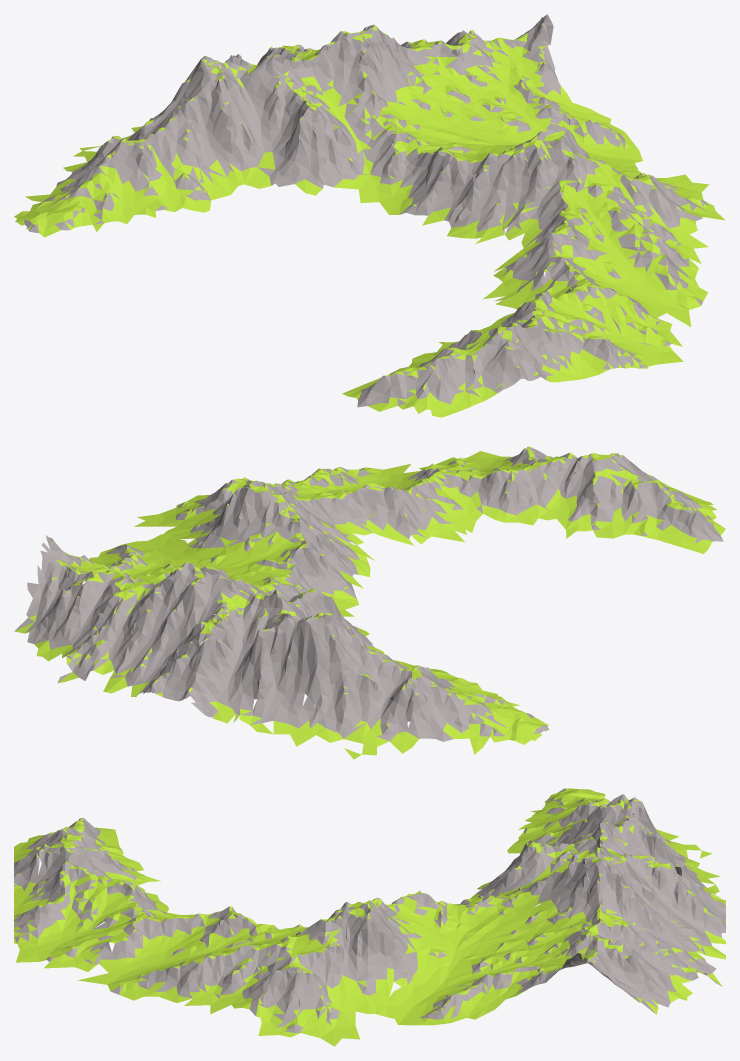
File: mapa novo2 .fbx
3 views of the same model, one above another, from view 1: azimuth 30°, elevation 25°; view 2: azimuth 150°, elevation 25°; view 3: azimuth 270°, elevation 25° (orthographic). The views are drawn at different scales.
Parts seen in each view (by area): view 1: Plane.001; view 2: Plane.001; view 3: Plane.001.
Boxes of the visible parts, x1,y1,x2,y2 form: Plane.001: [14, 14, 725, 417]; Plane.001: [14, 446, 725, 759]; Plane.001: [14, 788, 725, 1046].
Bounding box in the file's own units: 207 × 38.58 × 242.
